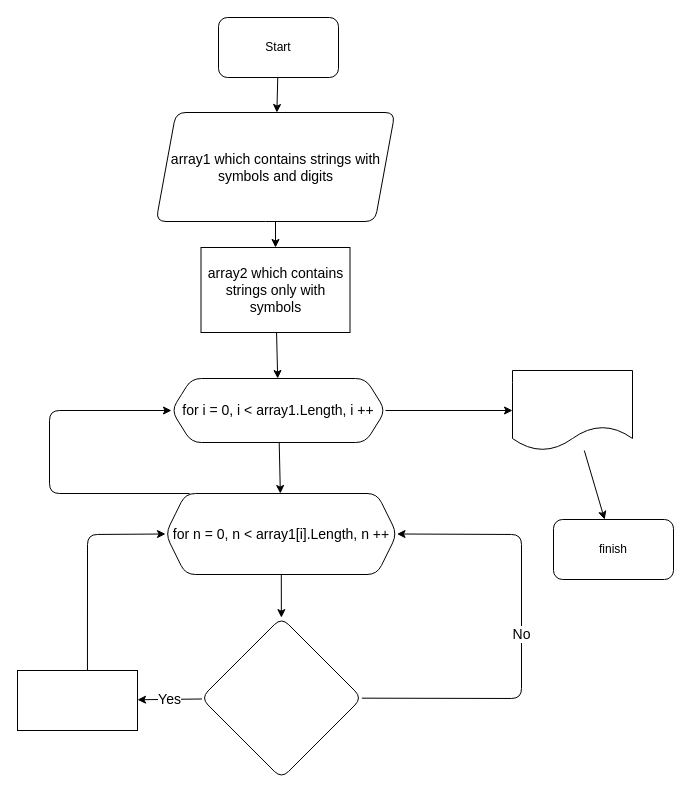
Image size: 691x796. Some labels were removed from this diagram. The centre of each missing label's shape, as x and y in pixels:
array2: the point at 572,410
array2[i][n] = array1[i][n]: the point at 77,700
if array1[i][n] is not digit: the point at 281,697
